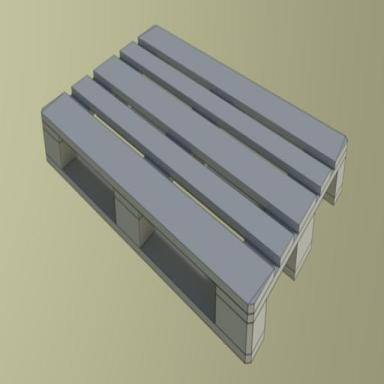pallet: (41, 24, 348, 364)
